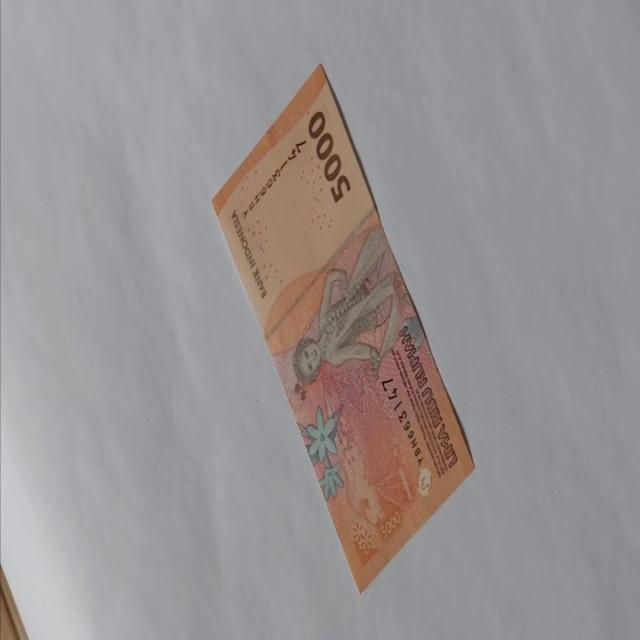lima ribu rupiah: (211, 61, 476, 595)
